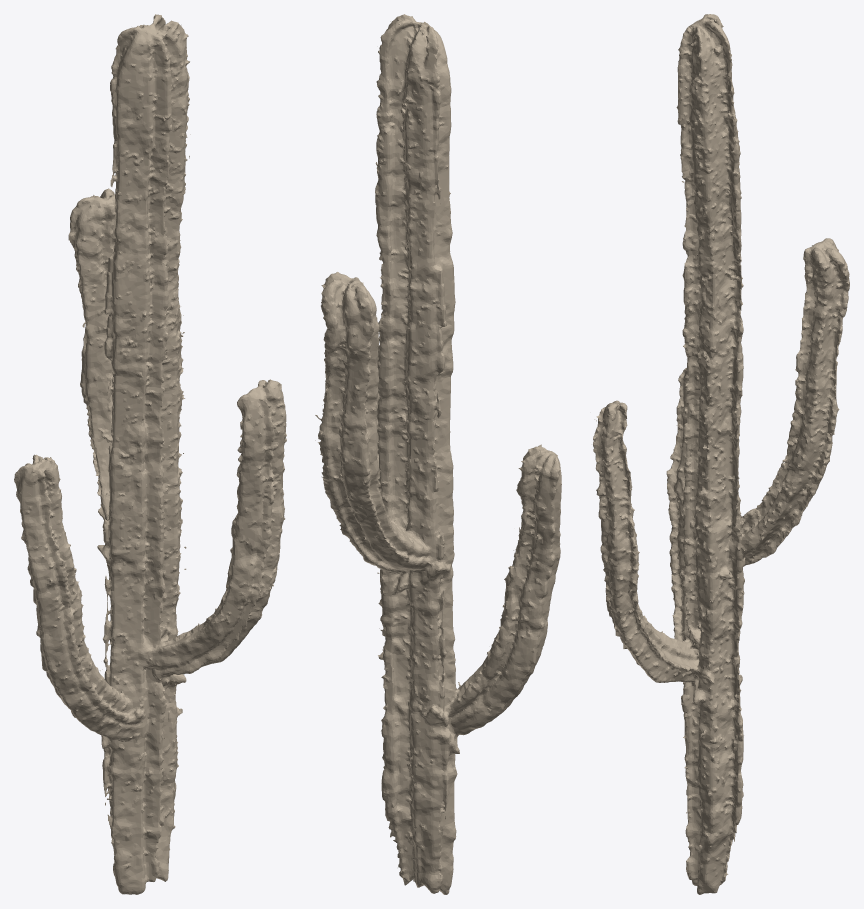
The model's file is 3dcodebench_ColumnarCactus_seed0.glb.
3 renders of one model, left to right at view 1: azimuth 30°, elevation 25°; view 2: azimuth 150°, elevation 25°; view 3: azimuth 270°, elevation 25°, orthographic.
Parts seen in each view (by area): view 1: object; view 2: object; view 3: object.
Part boxes in pixels (bbox=[...]): object: bbox=[14, 14, 286, 894]; object: bbox=[315, 14, 561, 894]; object: bbox=[593, 14, 849, 894].
Size of the model in its own units: 1.46 by 5.31 by 1.43.
